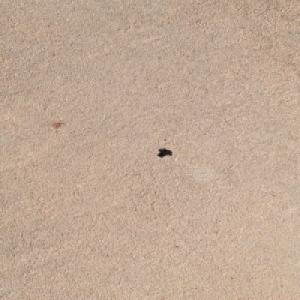BoltWasher: (156, 148, 169, 156)
